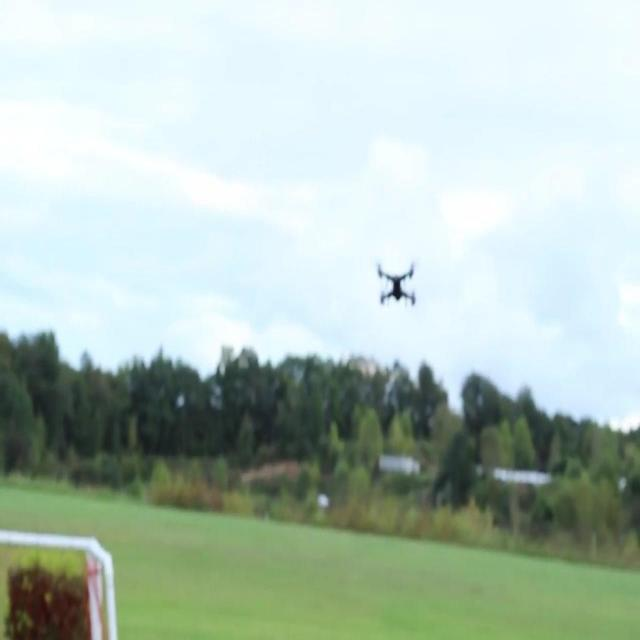UAV: (377, 259, 417, 309)
